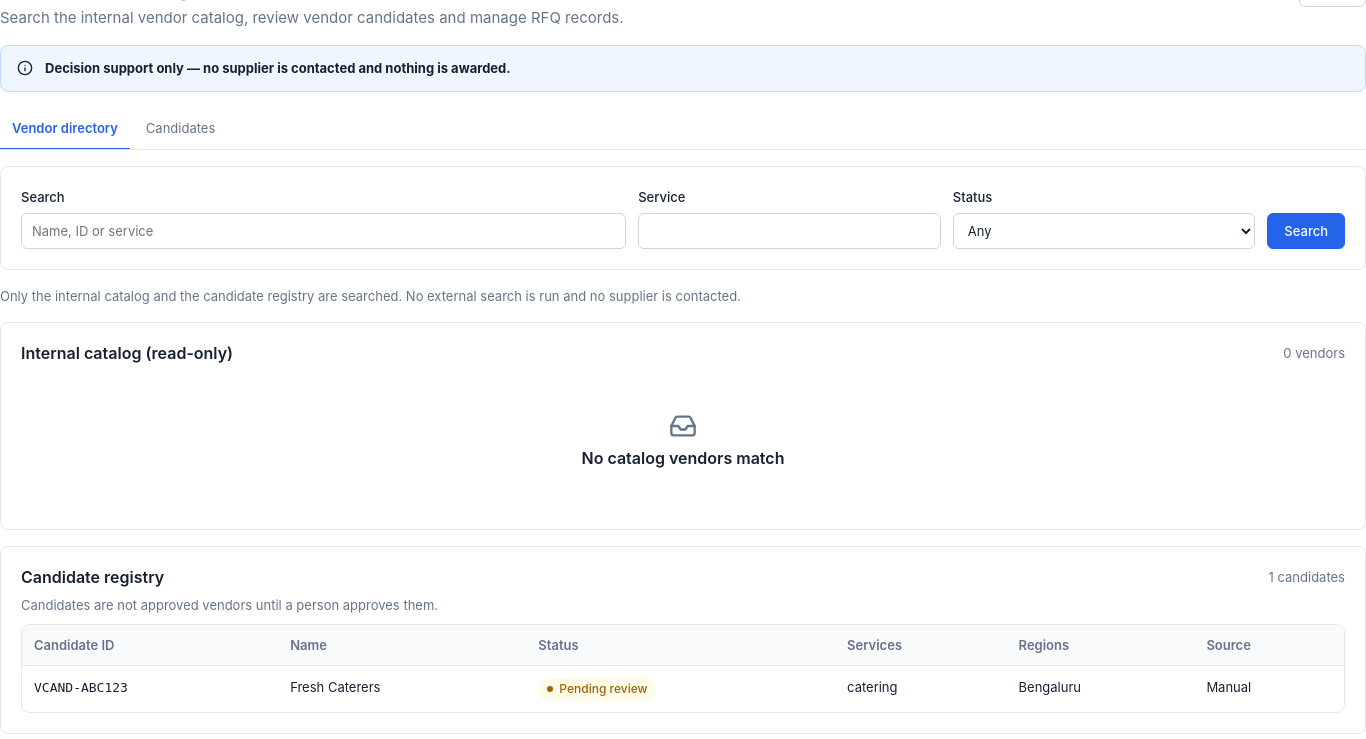
Test case: VendorSourcingPage — allowed_decisions › shows no controls when the server allows none
The width and height of the screenshot is (1366, 739).
Click the tab "Candidates". click: (181, 129)
box: [134, 108, 227, 150]
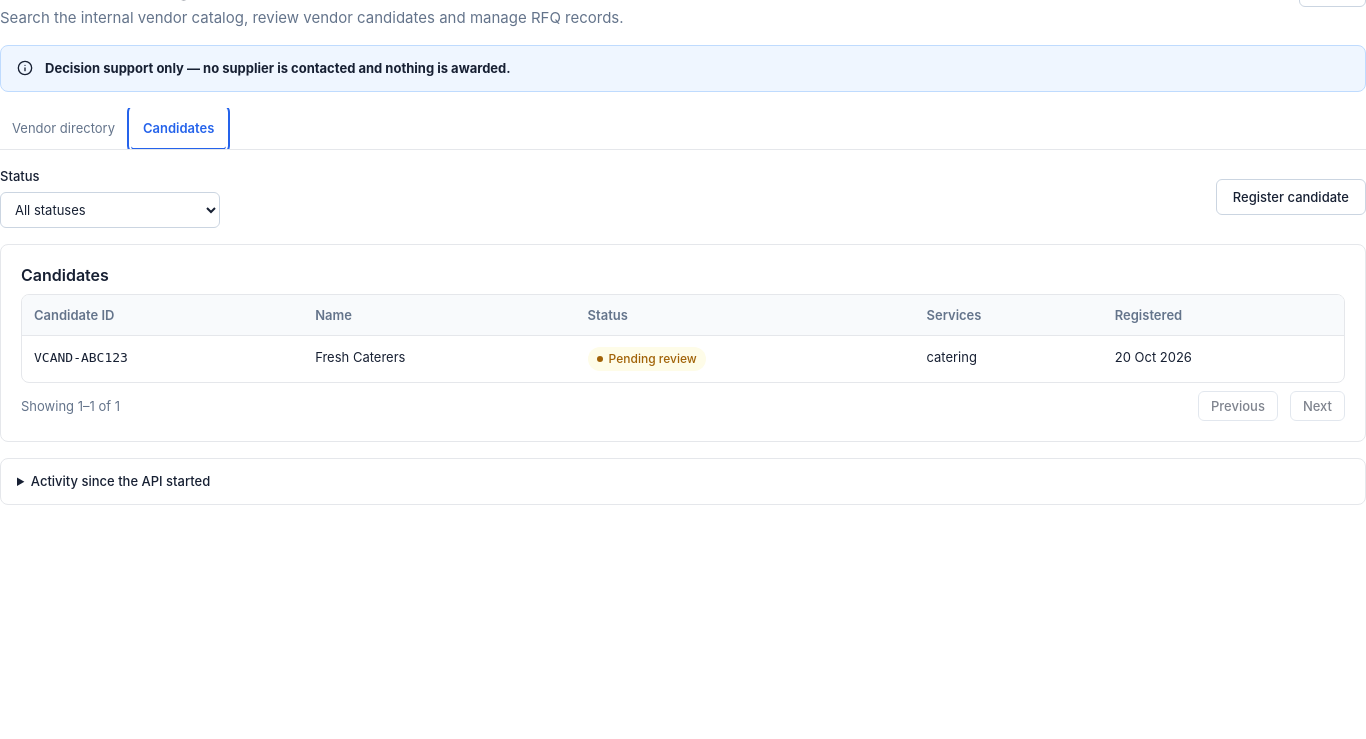
Click the text "Fresh Caterers". click: (360, 357)
box: [303, 336, 576, 382]
(page scrolled)
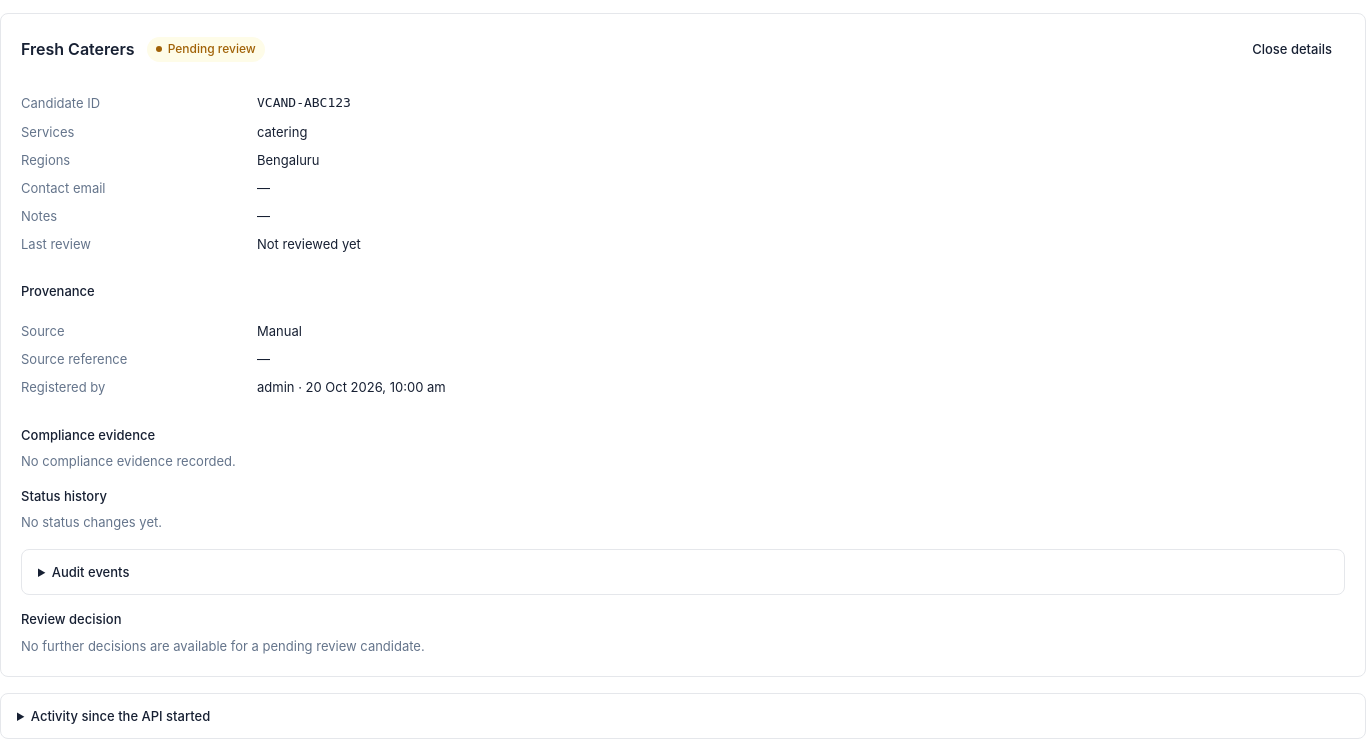
Check: the text "No further decisions are available" is shown, box [21, 638, 263, 654]
